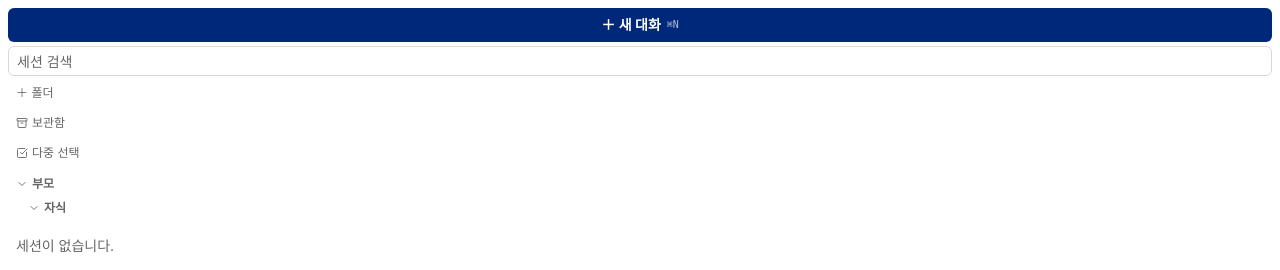
Scenario: SessionList › 부모 폴더를 접으면 자식 폴더도 함께 숨겨진다(P20-T1-06)
This screenshot has width=1280, height=270.
Expected: the text "자식" is shown, 44,200 -> 66,216
What coordinates should you click on to do the following:
click the button with aria-label "접기: 부모"
I would click on:
 (22, 184)
Its box is 16,176 -> 1264,192.
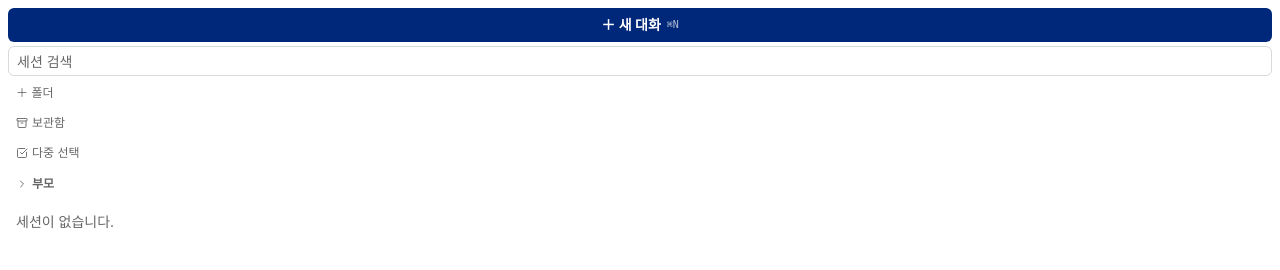
Expected: the button "자식" is gone
